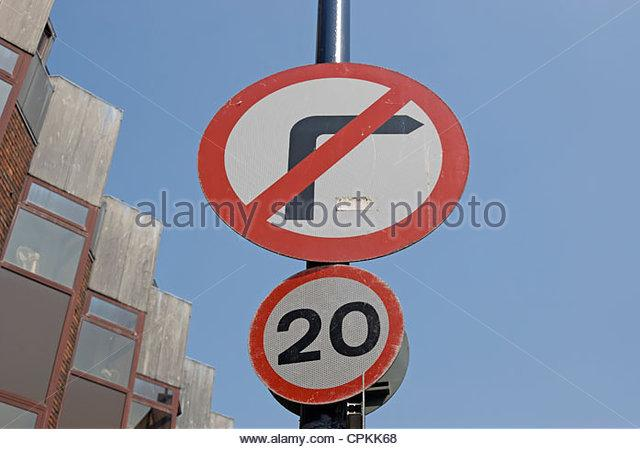no_right_turn: (197, 62, 469, 262)
